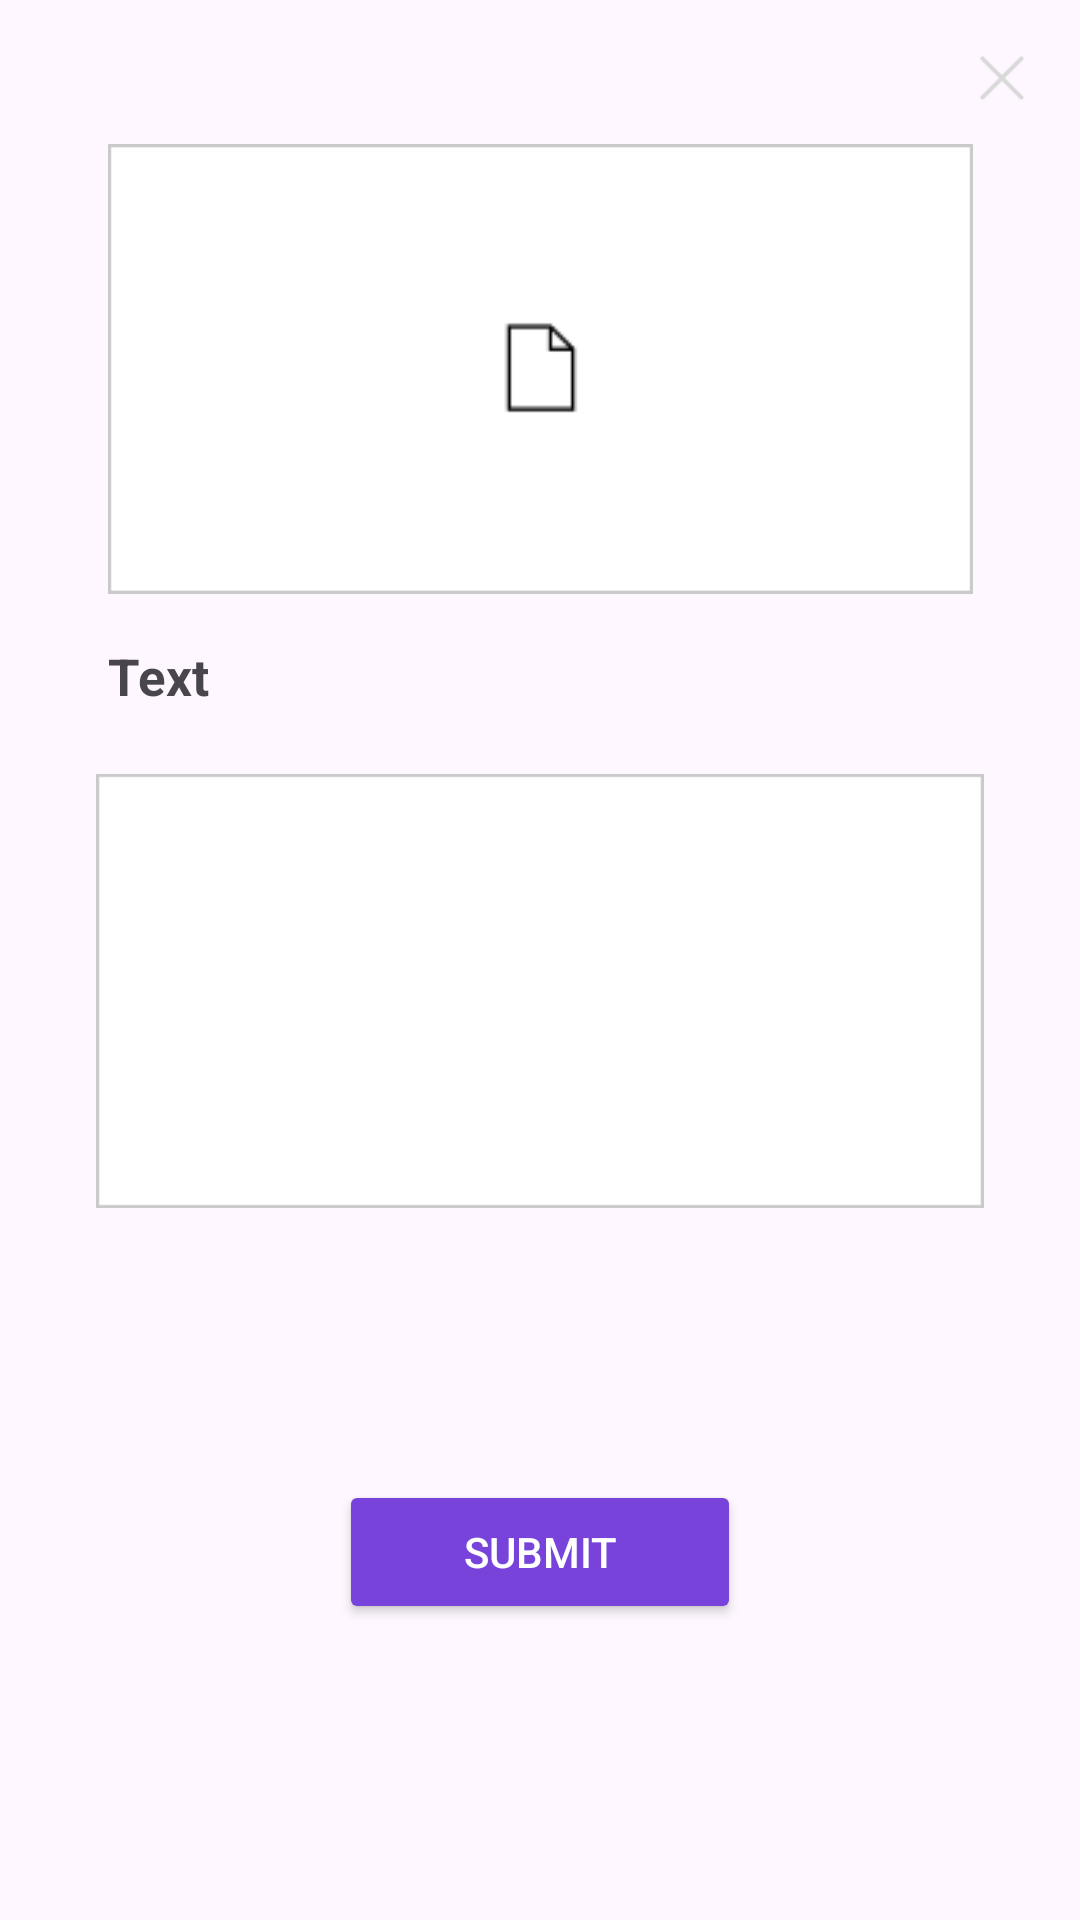

Icons on this 1080w x 1920h Android screen, each with its box as (x1, y1, x2, y2):
close bottom sheet: (981, 57, 1023, 99)
